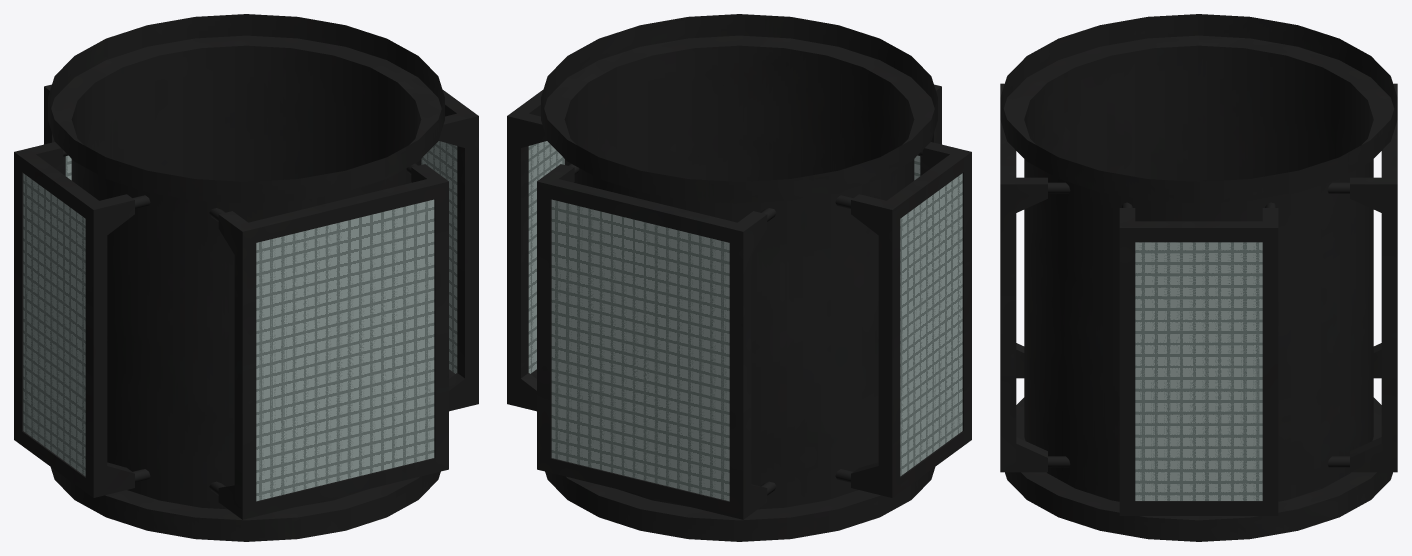
File: 1f_science_container_s0_2.obj
3 renders of one model, left to right at view 1: azimuth 30°, elevation 25°; view 2: azimuth 150°, elevation 25°; view 3: azimuth 270°, elevation 25°, orthographic.
Parts seen in each view (by area): view 1: mesh1, mesh2; view 2: mesh1, mesh2; view 3: mesh1, mesh2.
Part boxes in pixels (left/top/right/bottom): mesh1: left=14, top=14, right=478, bottom=541; mesh2: left=23, top=141, right=457, bottom=501; mesh1: left=507, top=14, right=971, bottom=541; mesh2: left=528, top=141, right=962, bottom=501; mesh1: left=1000, top=14, right=1397, bottom=541; mesh2: left=1135, top=242, right=1262, bottom=500.
Size of the model in its own units: 0.7 by 0.625 by 0.625.
